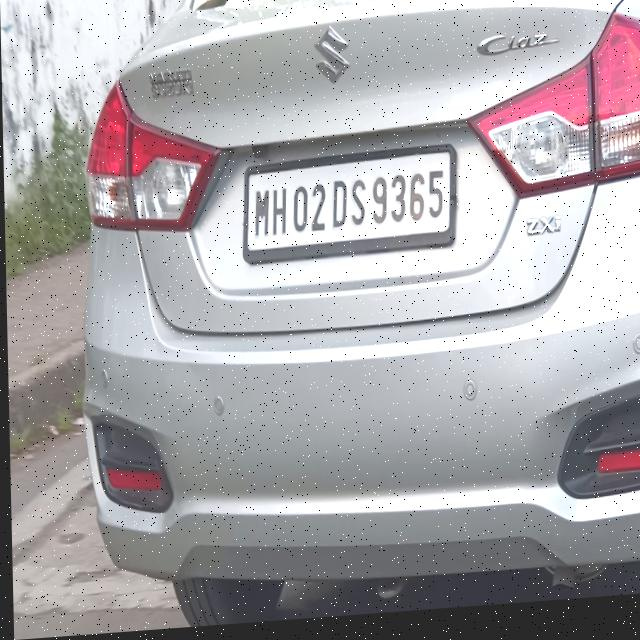plate: (239, 149, 458, 267)
